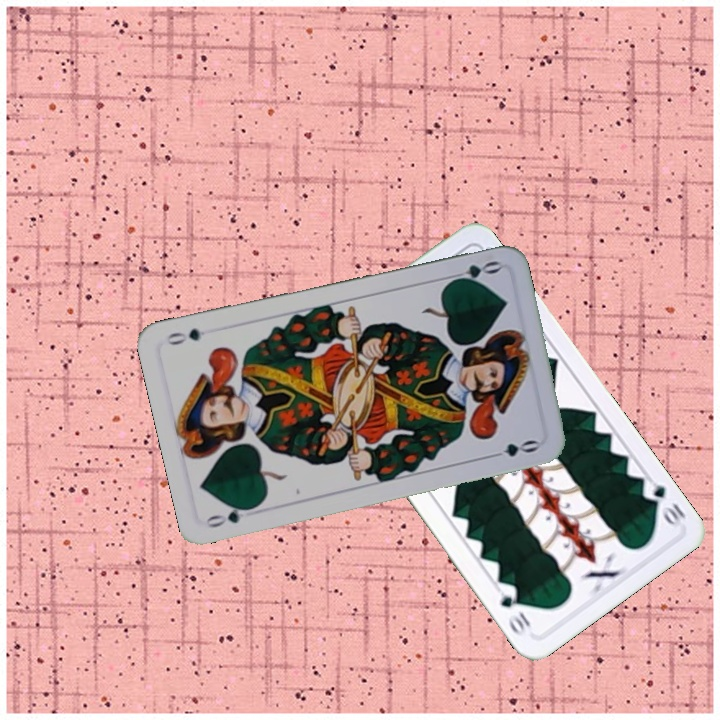G10: (638, 480, 689, 530)
GO: (443, 256, 503, 287), (202, 501, 260, 531)
